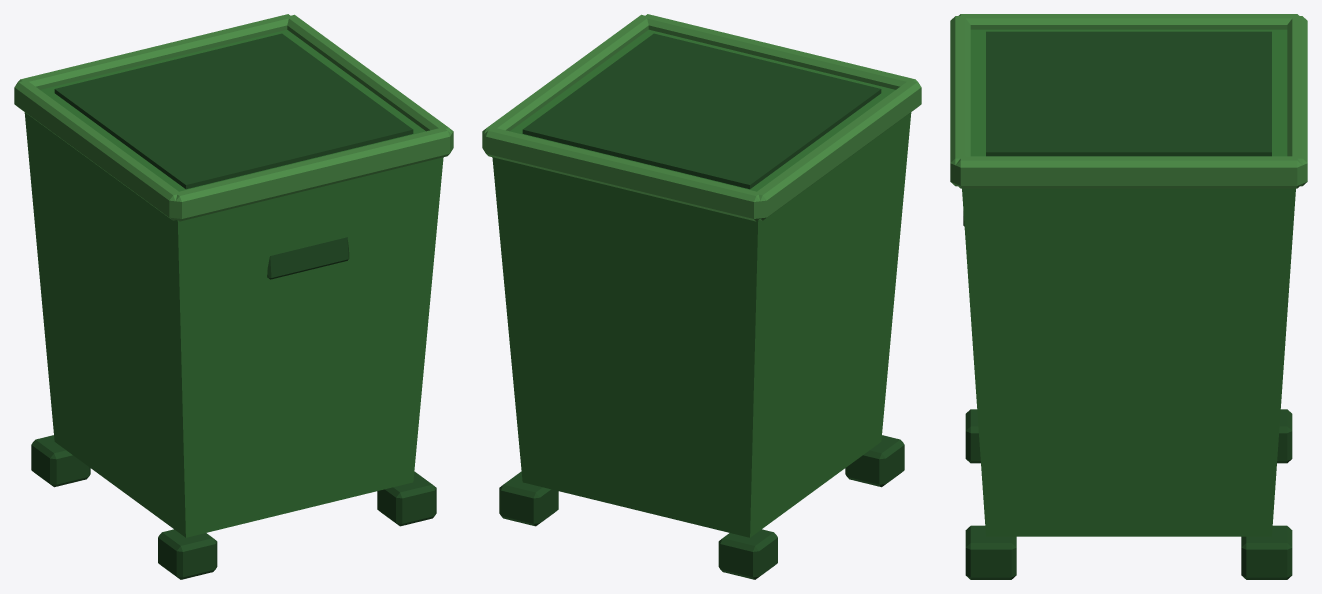
Rendered from bin_green.glb.
The picture shows the model from 3 angles, left to right: view 1: azimuth 30°, elevation 25°; view 2: azimuth 150°, elevation 25°; view 3: azimuth 270°, elevation 25°; orthographic projection. The views are drawn at different scales.
Visible parts, largest first — view 1: bin_green; view 2: bin_green; view 3: bin_green.
Boxes of the visible parts, left/top/right/bottom form: bin_green: left=14, top=14, right=453, bottom=579; bin_green: left=482, top=14, right=921, bottom=579; bin_green: left=950, top=14, right=1307, bottom=579.
Size of the model in its own units: 0.7 by 0.92 by 0.7.
